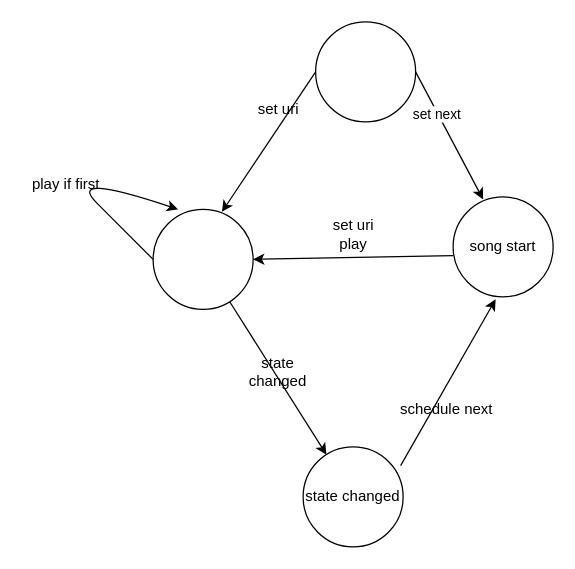
Image size: 575x569. Some labels were removed from this diagram. Here are the shapes that lost their labels. From the top down, the centre of each, then its label:
At point 365,71: "queue".
At point 202,258: "player".
